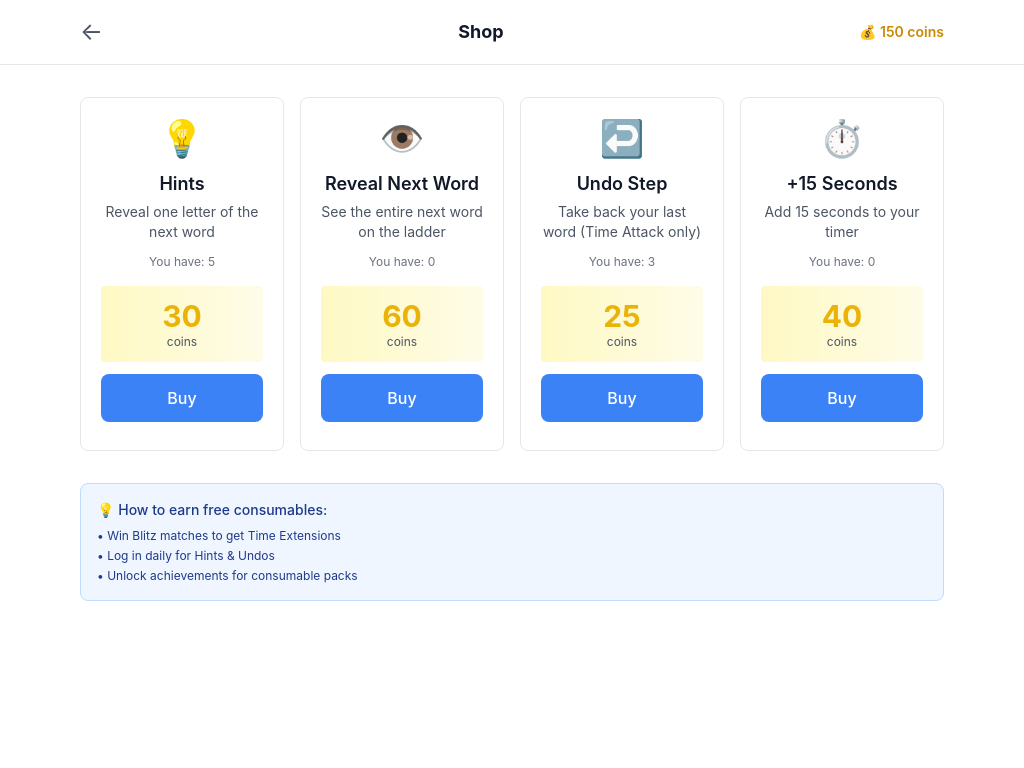
Test case: ShopPage › opens confirmation modal when buy clicked
Expected: the heading "Shop" is shown, [458,18,504,46]
Click the button "Buy" below "30" at {"x": 182, "y": 398}, box [101,374,263,422]
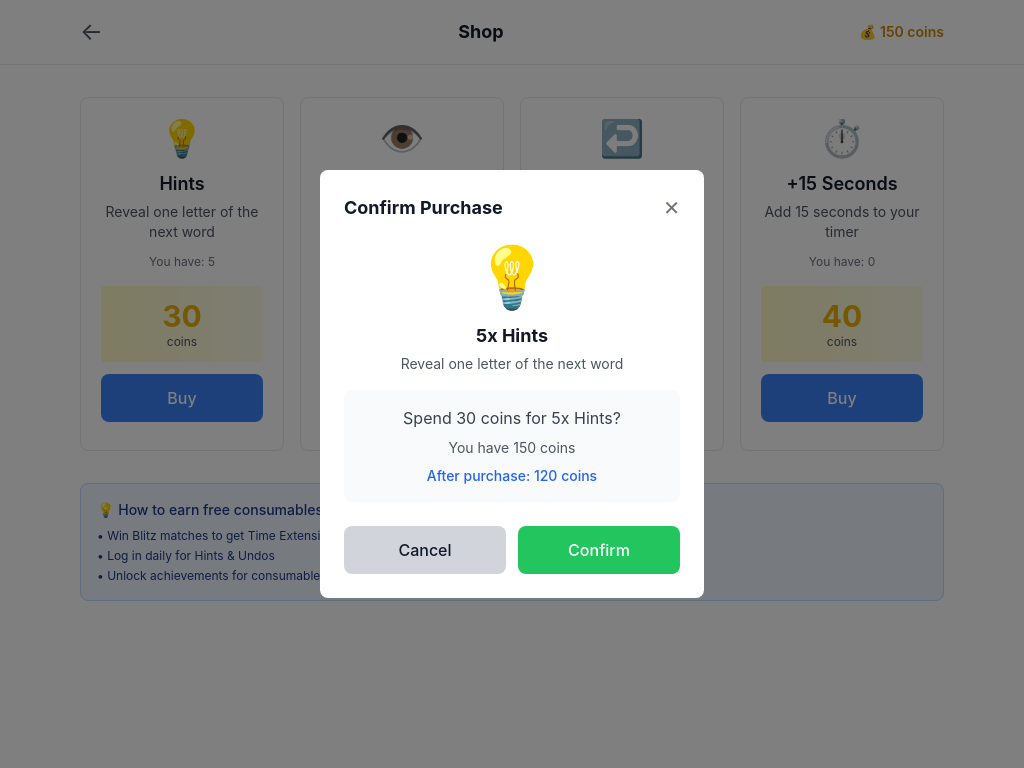
Expected: the dialog is shown, [320,170,704,598]
